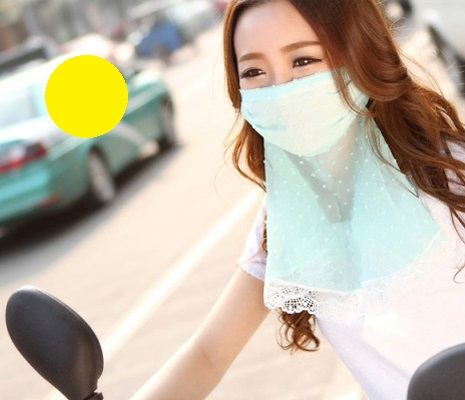face_mask: (233, 2, 357, 151)
